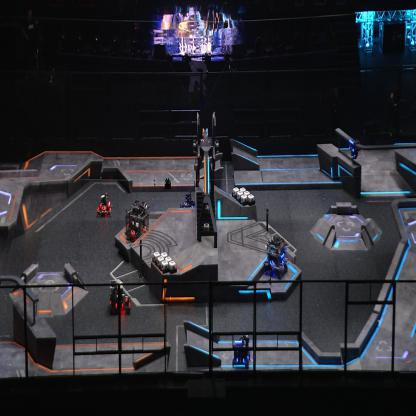car: (263, 234, 287, 280), (124, 199, 150, 241), (108, 279, 131, 314), (232, 333, 251, 368), (96, 192, 112, 218), (180, 190, 196, 212)
